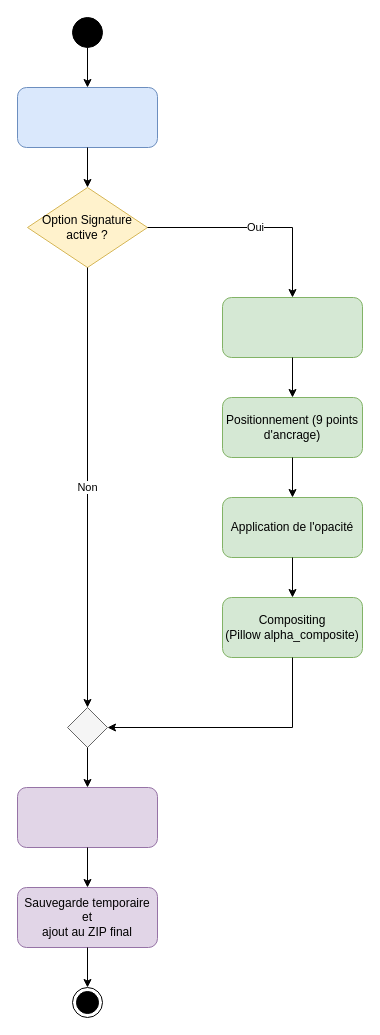
This 380x1035 diagram has some shape labels left out. The shapes that lost their labels are listed below. From the top down, each one's centre as x and y in pixels, then its label:
At (x=87, y=117): "Réception des images (Simple ou Carrousel)".
At (x=292, y=327): "Calcul échelle relative logo / source".
At (x=87, y=817): "Compression vers format cible (WebP/AVIF/JPG)".
